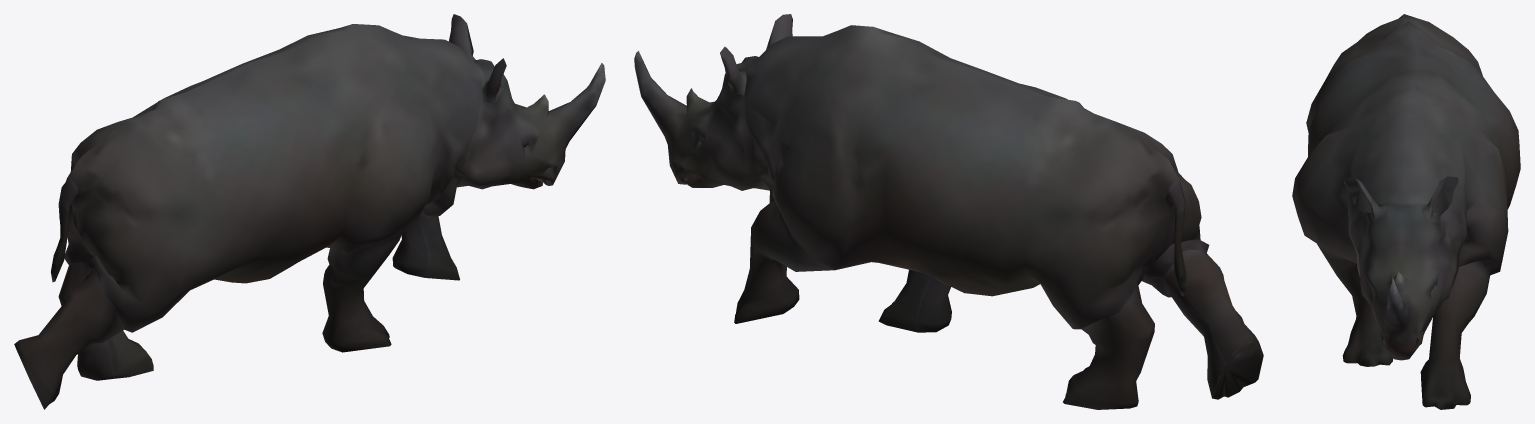
3 renders of one model, left to right at view 1: azimuth 30°, elevation 25°; view 2: azimuth 150°, elevation 25°; view 3: azimuth 270°, elevation 25°, orthographic. The views are drawn at different scales.
Parts seen in each view (by area): view 1: Object_7; view 2: Object_7; view 3: Object_7.
Boxes of the visible parts, left/top/right/bottom form: Object_7: left=14, top=14, right=605, bottom=409; Object_7: left=634, top=14, right=1263, bottom=409; Object_7: left=1292, top=14, right=1520, bottom=409.
Size of the model in its own units: 86.62 by 41.25 by 30.8.
1 material, 1 textured.
